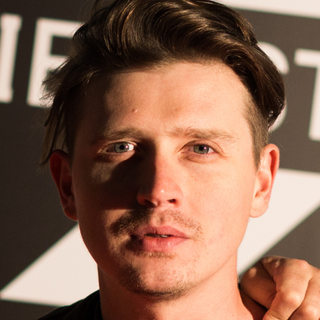eye: (180, 138, 224, 162), (97, 135, 145, 157)
